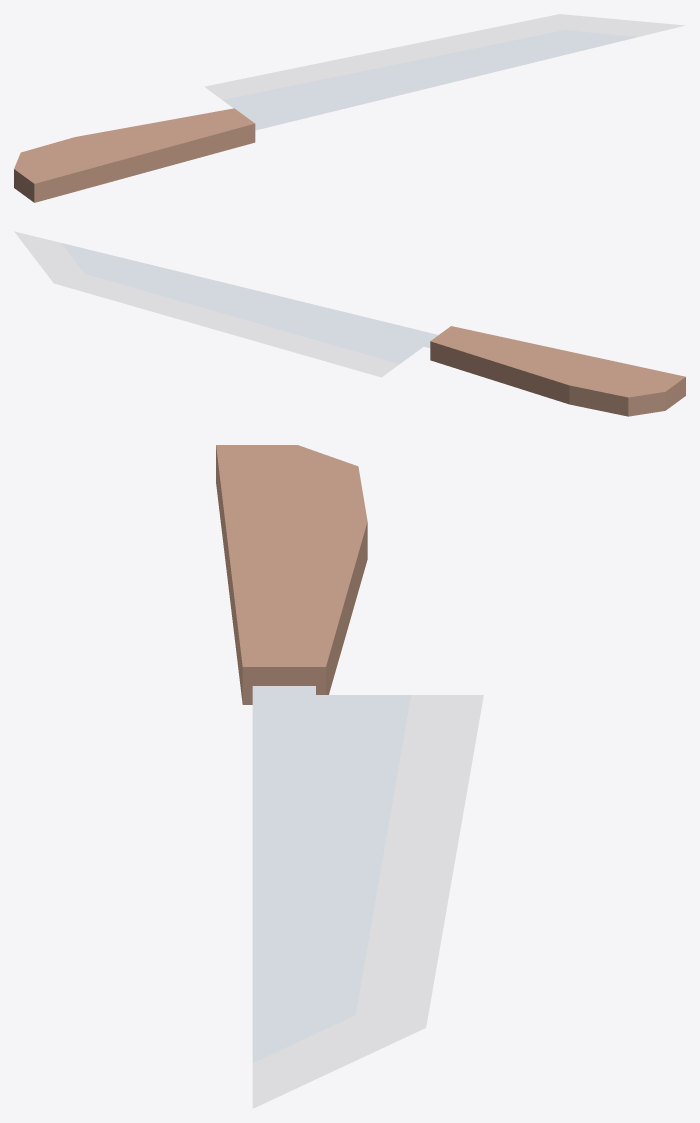
The model's file is cooking_knife.glb.
The picture shows the model from 3 angles, top to bottom: view 1: azimuth 30°, elevation 25°; view 2: azimuth 150°, elevation 25°; view 3: azimuth 270°, elevation 25°; orthographic projection. The views are drawn at different scales.
Visible parts, largest first — view 1: cookingKnife; view 2: cookingKnife; view 3: cookingKnife.
Part boxes in pixels (x1,y1,x2,y2): cookingKnife: (14,14,685,202); cookingKnife: (14,231,685,416); cookingKnife: (216,445,483,1108).
Bounding box in the file's own units: 0.7262 × 0.02 × 0.1275.
